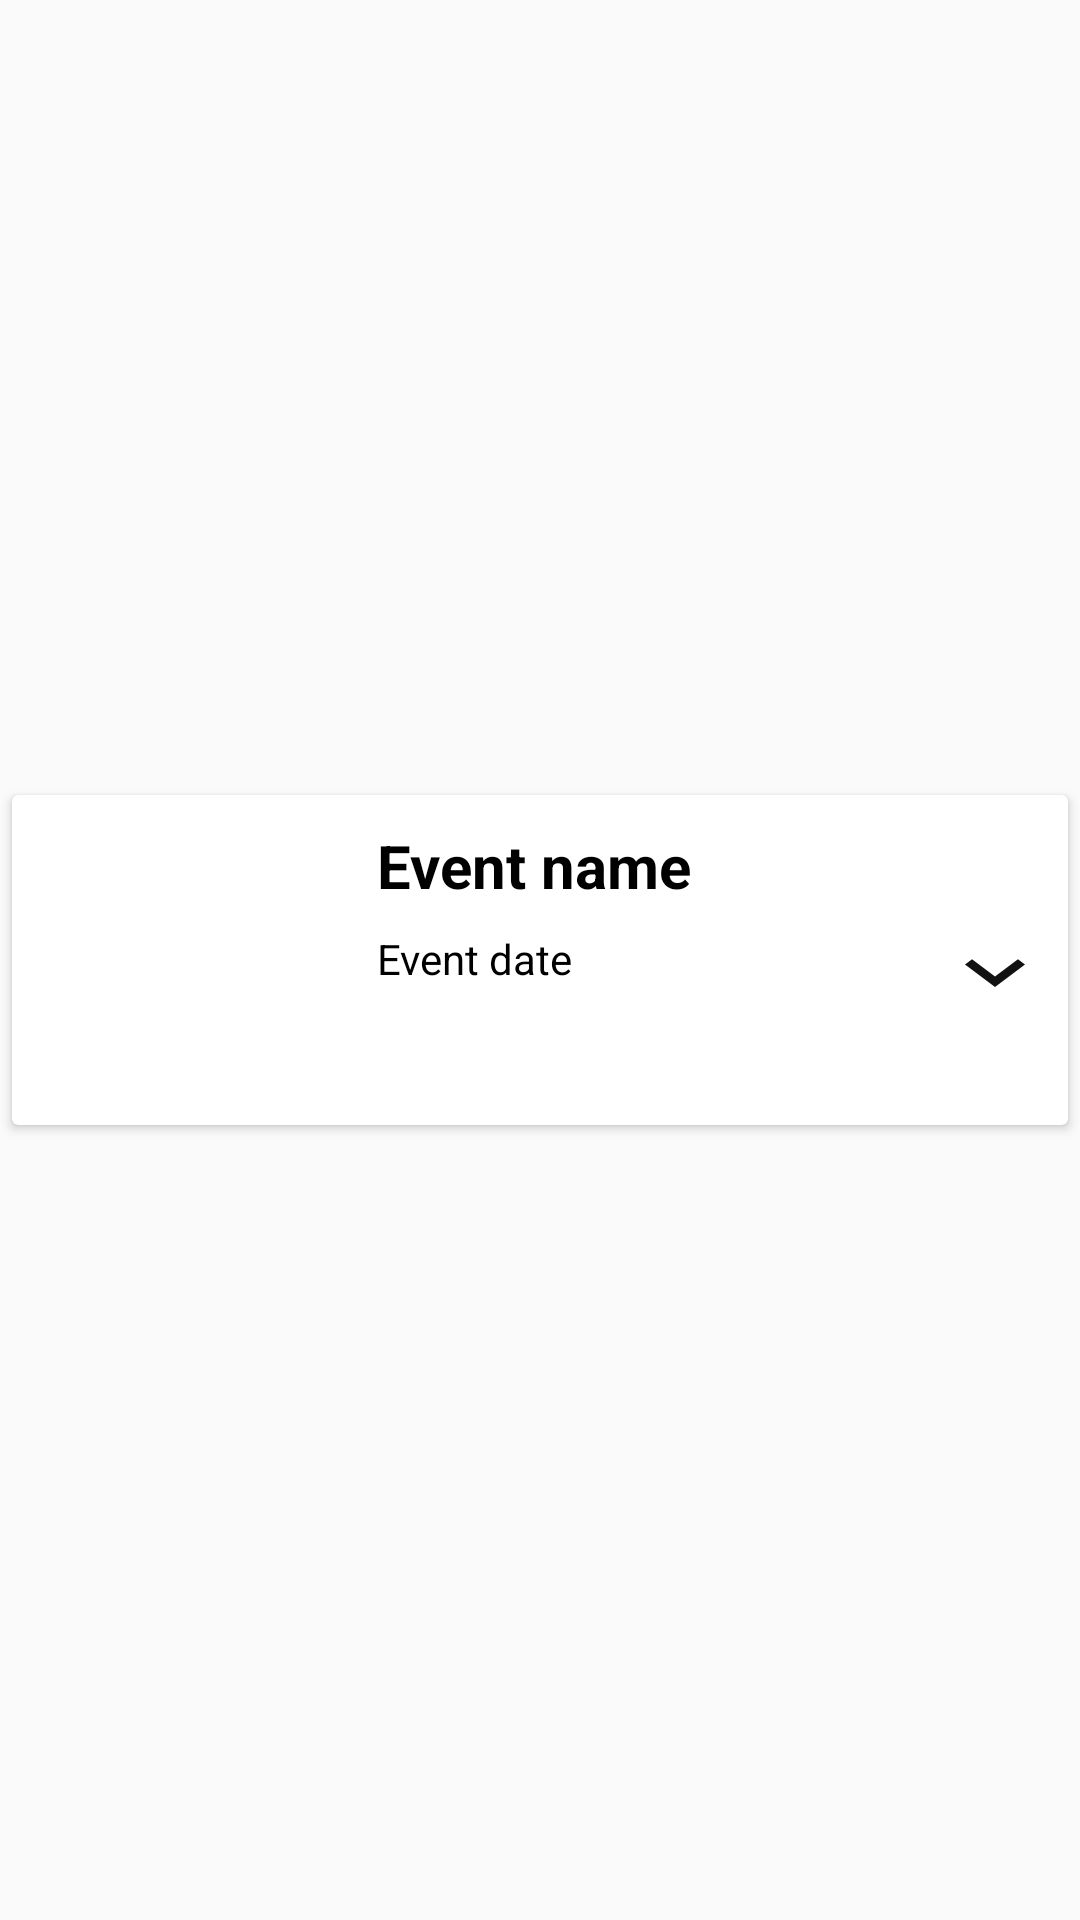

Locate icon controls on the screen. Image size 1080*1920, boxes as (x1, y1, x2, y2).
arrow down: (965, 959, 1025, 987)
